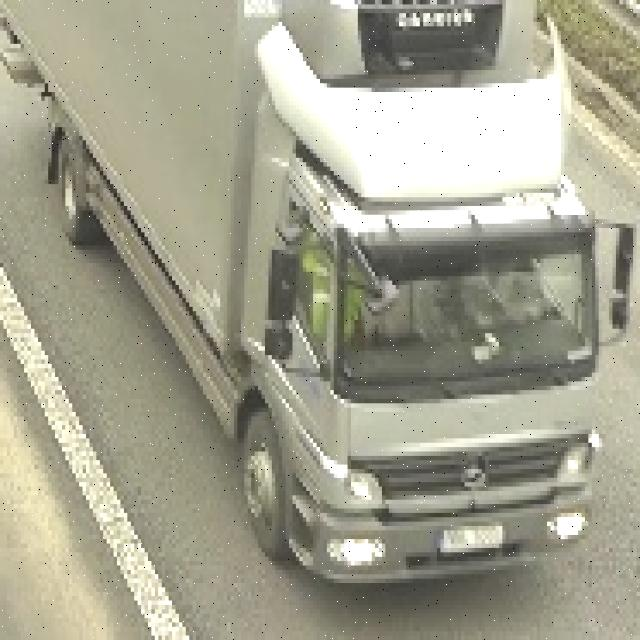truck: (4, 0, 633, 583)
